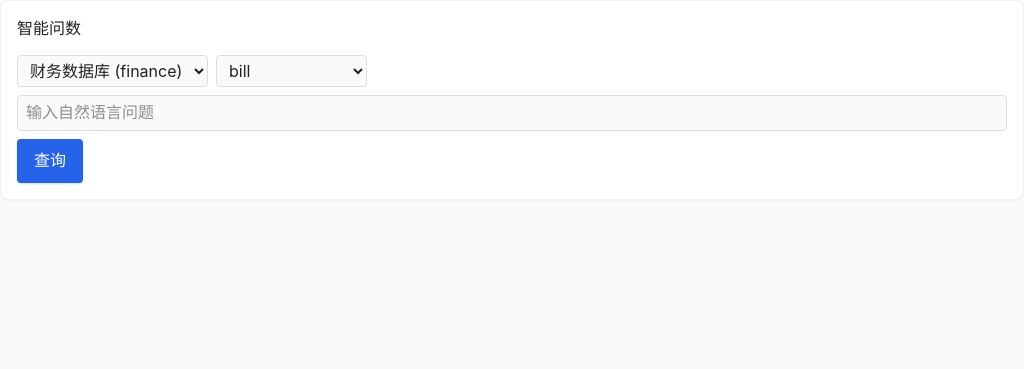
Test: QueryPanel.vue (REQ-052 Task 6 + REQ-054 Task 8 + review fix + BUG-015) › renders error messages + suggestion on failed response
Type "测试问题" into the field with placeholder "输入自然语言问题" at (512, 113), box [17,95,1007,131]
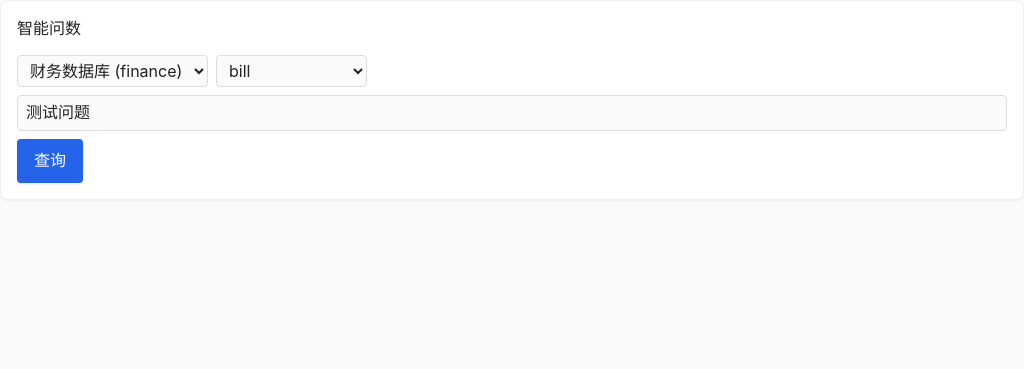
Submit the form, box [17,55,1007,183]
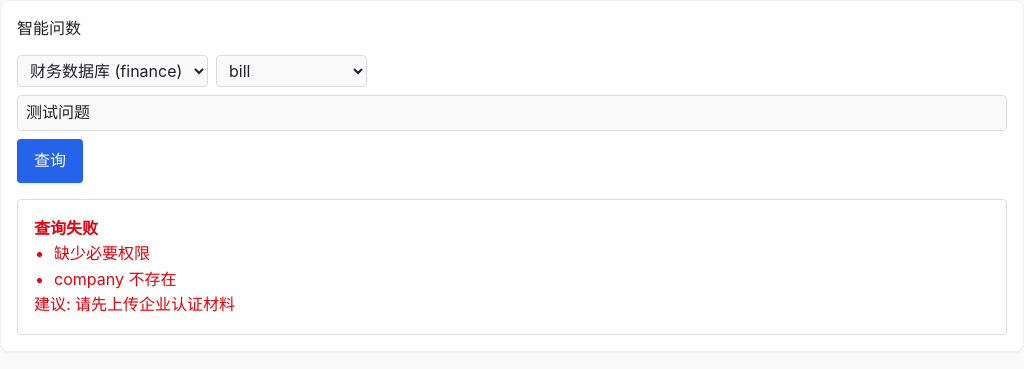
Expected: the text "查询失败" is shown, [34,218,98,238]
Expected: the text "缺少必要权限" is shown, [54,243,150,263]
Expected: the text "company 不存在" is shown, [54,269,176,289]
